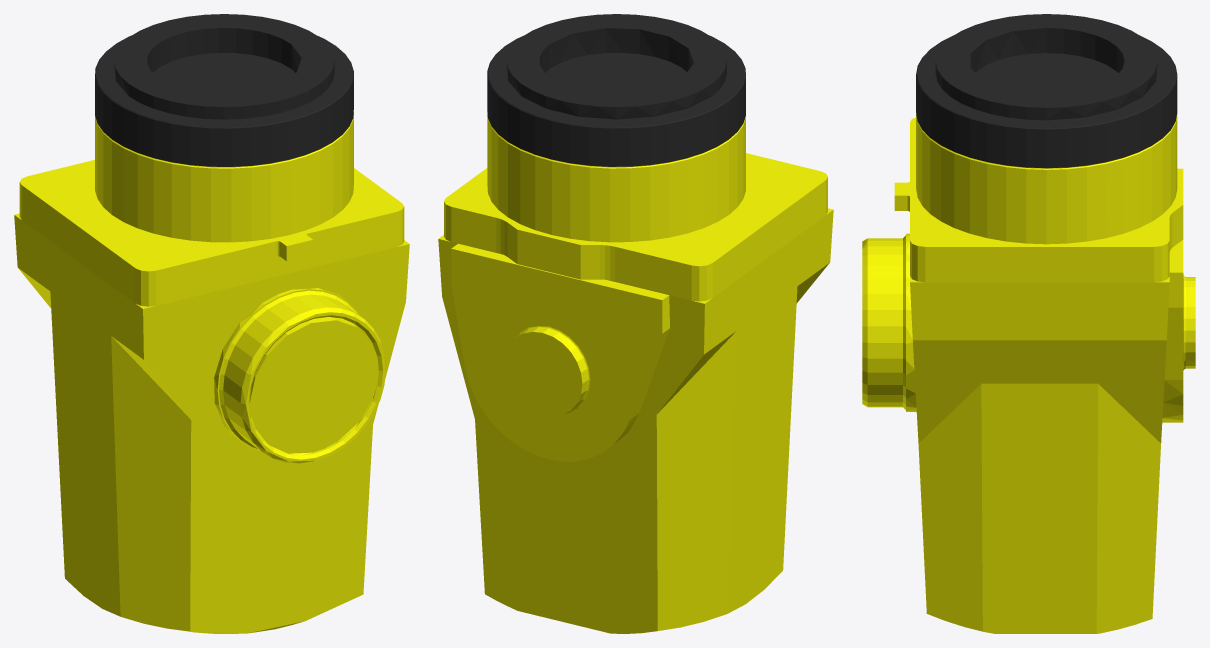
3 views of the same model, side by side, from view 1: azimuth 30°, elevation 25°; view 2: azimuth 150°, elevation 25°; view 3: azimuth 270°, elevation 25° (orthographic).
Visible parts, largest first — view 1: node; view 2: node; view 3: node.
Part boxes in pixels (x1,y1,x2,y2): node: (14,14,409,633); node: (438,14,833,633); node: (862,14,1195,633).
Size of the model in its own units: 101 by 190 by 109.
